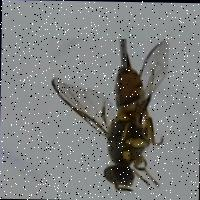Oriental-fruit-fly: (45, 36, 195, 200)
